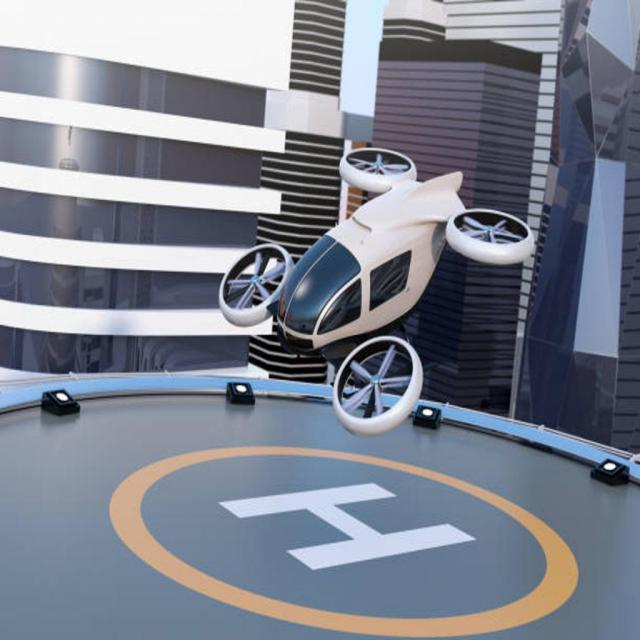helipad: (105, 437, 582, 637)
